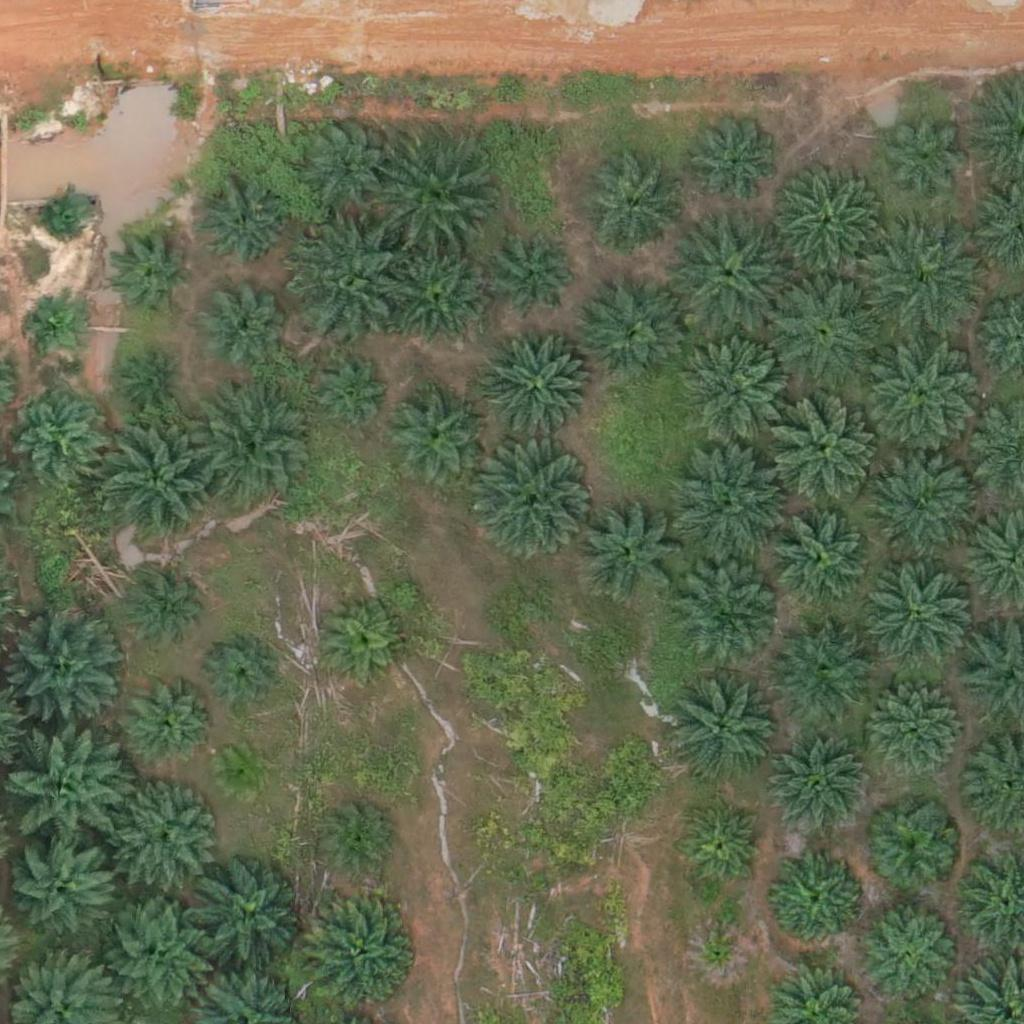Kelapa_Sawit: (868, 341, 981, 455), (669, 674, 782, 788), (472, 446, 585, 560), (198, 395, 311, 509), (868, 226, 981, 339), (869, 560, 982, 673), (766, 396, 879, 509), (766, 167, 879, 280), (680, 337, 793, 450), (669, 560, 782, 673), (103, 418, 216, 531), (6, 734, 119, 847), (301, 894, 414, 1007), (191, 858, 304, 971), (868, 445, 980, 559), (765, 273, 877, 387), (4, 608, 116, 722), (678, 216, 790, 329), (675, 452, 787, 565), (483, 332, 595, 445), (380, 145, 492, 258), (290, 224, 402, 337), (107, 784, 219, 897), (95, 899, 207, 1012), (867, 678, 967, 779), (768, 735, 868, 836), (684, 110, 784, 211), (578, 498, 678, 599), (579, 283, 679, 384), (386, 243, 486, 344), (292, 110, 392, 211), (862, 902, 962, 1003), (12, 834, 112, 935), (776, 621, 876, 721), (771, 509, 871, 609), (583, 160, 683, 260), (387, 385, 487, 485), (767, 855, 855, 943), (198, 181, 285, 270), (885, 113, 972, 201), (863, 802, 950, 890), (675, 803, 762, 891), (492, 234, 579, 322), (305, 351, 392, 439), (198, 280, 285, 368), (14, 384, 101, 472), (108, 228, 195, 316), (318, 601, 405, 689), (135, 687, 210, 763), (202, 639, 277, 715), (126, 565, 201, 640), (319, 801, 394, 876), (30, 297, 80, 348), (213, 747, 263, 797), (37, 187, 87, 237), (128, 356, 178, 406), (696, 936, 733, 974)
